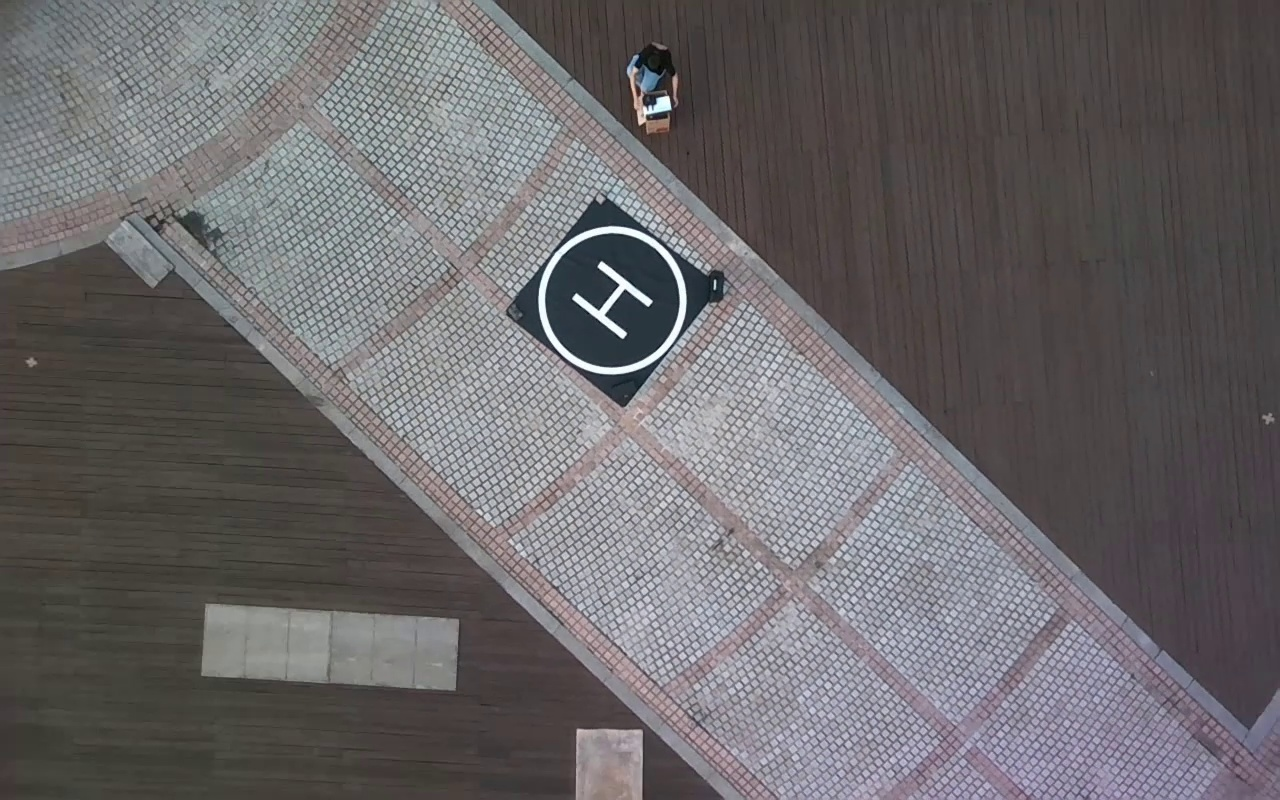H: (570, 259, 655, 339)
heliport: (537, 226, 690, 376)
